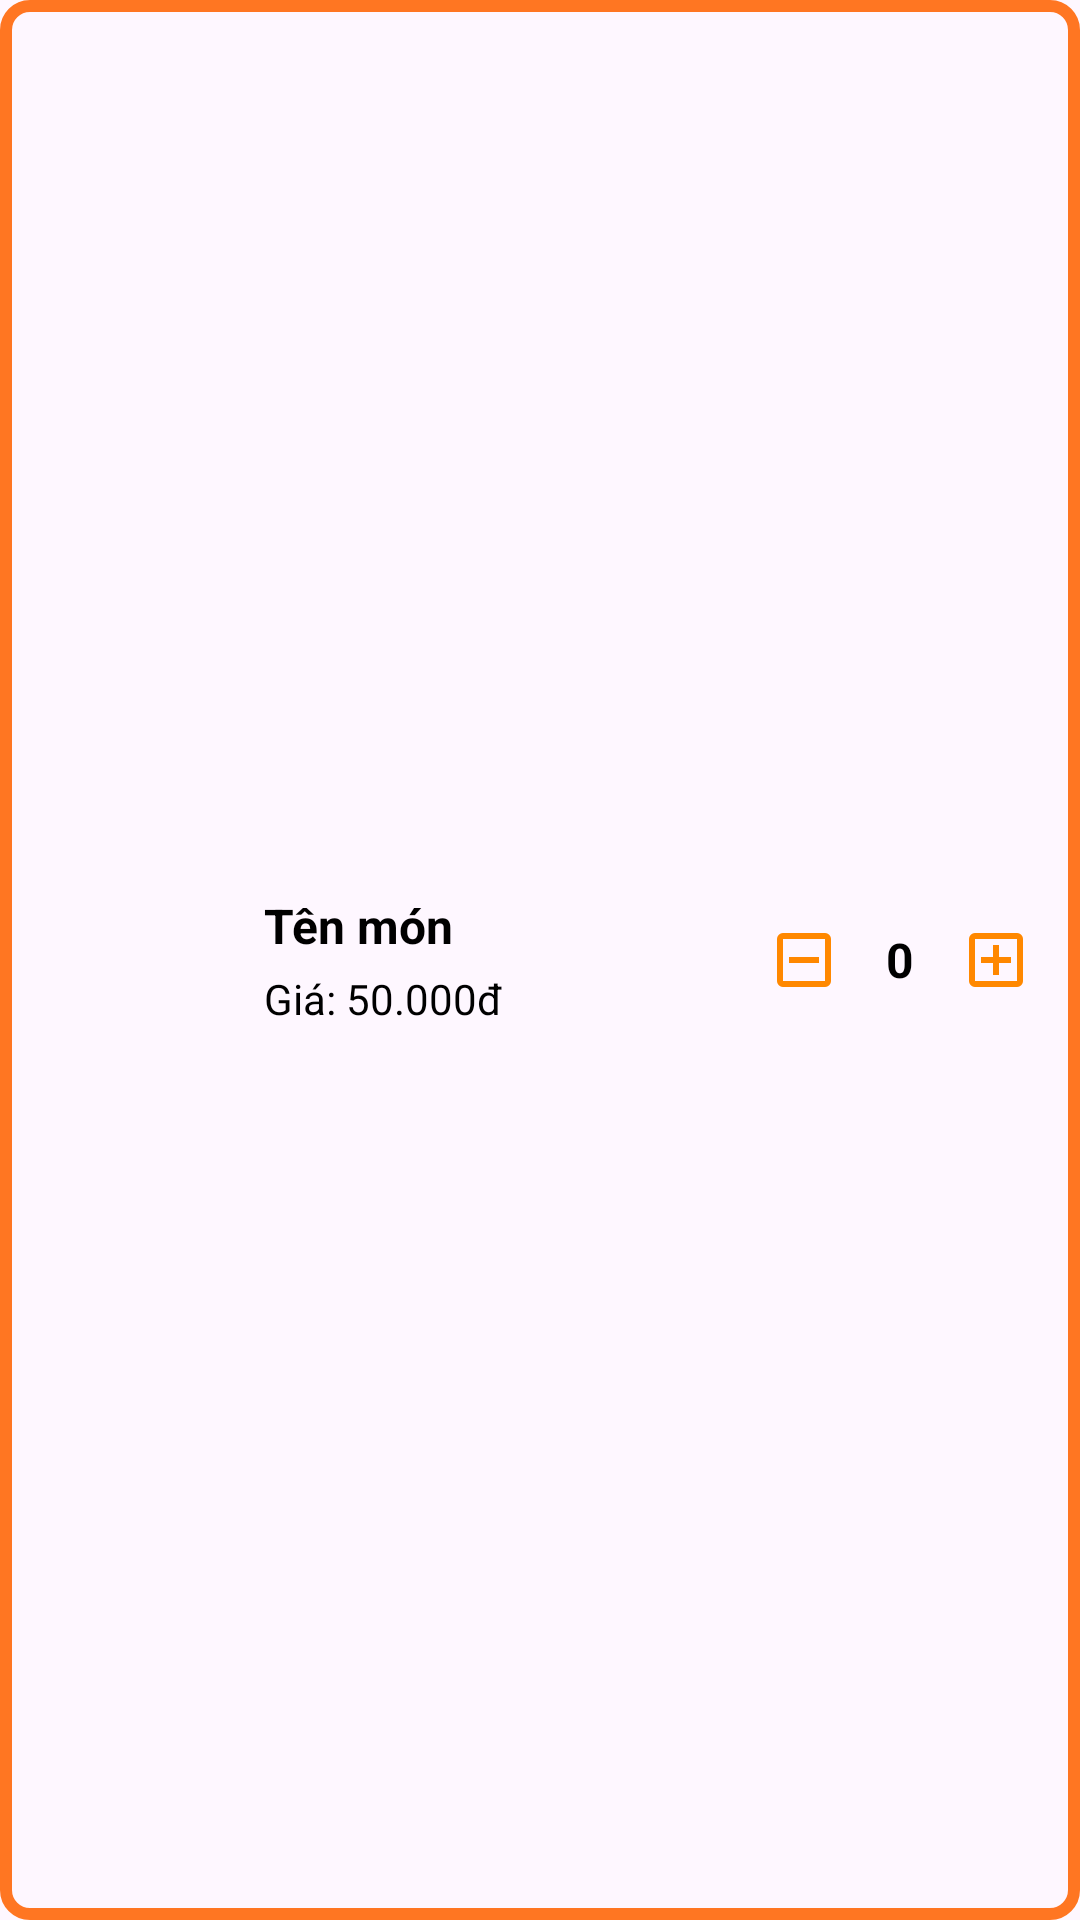

Named icons in this screenshot (1080x1920) and their bounding boxes, (x1, y1, x2, y2):
Cộng: (969, 933, 1023, 987)
Trừ: (777, 933, 831, 987)
